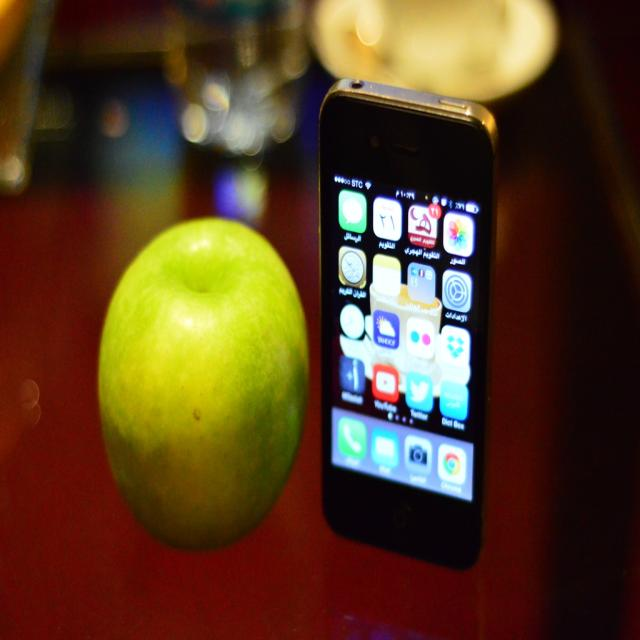Mobile phone: (322, 78, 500, 574)
